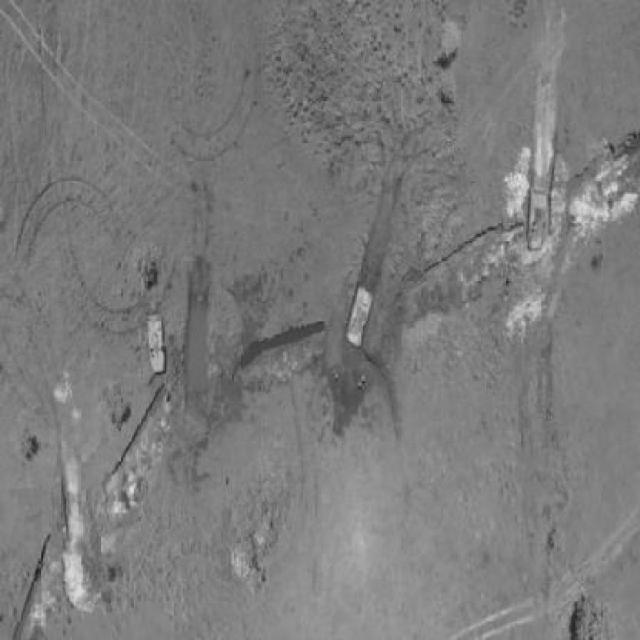Vehicle: (345, 288, 372, 352), (527, 190, 549, 254), (145, 316, 166, 377)
